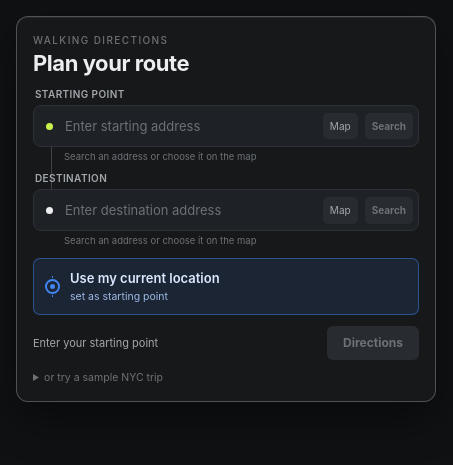
Test: route planner › editing a pending search aborts its obsolete request
Type "Times Square" into the search field labelled "Starting point" at (190, 126), box [65,112,316,140]
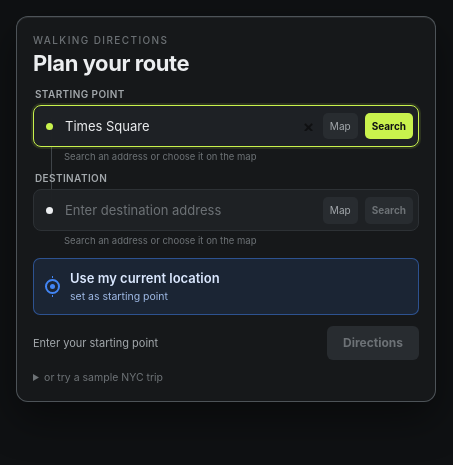
Click the button with aria-label "Search for starting point" at (389, 126), box [365,113,413,139]
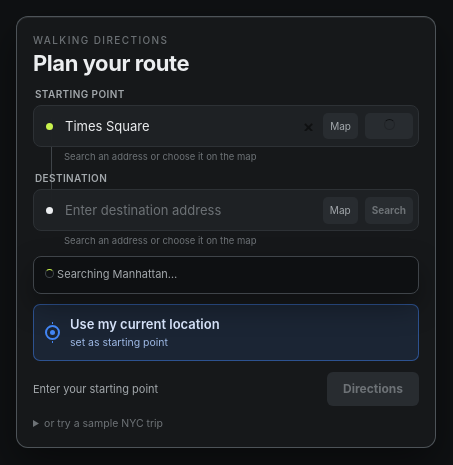
Type " West" into the search field labelled "Starting point" at (191, 126), box [65,112,316,140]
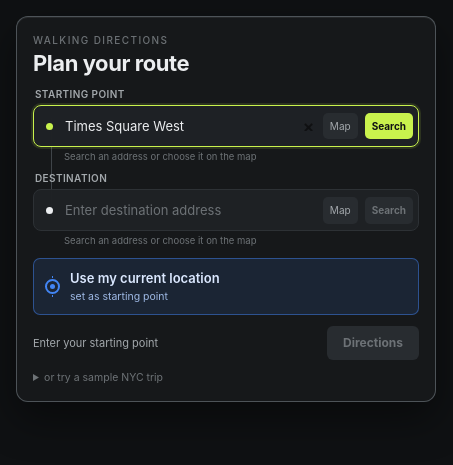
Result: the text "Searching Manhattan…" is gone
